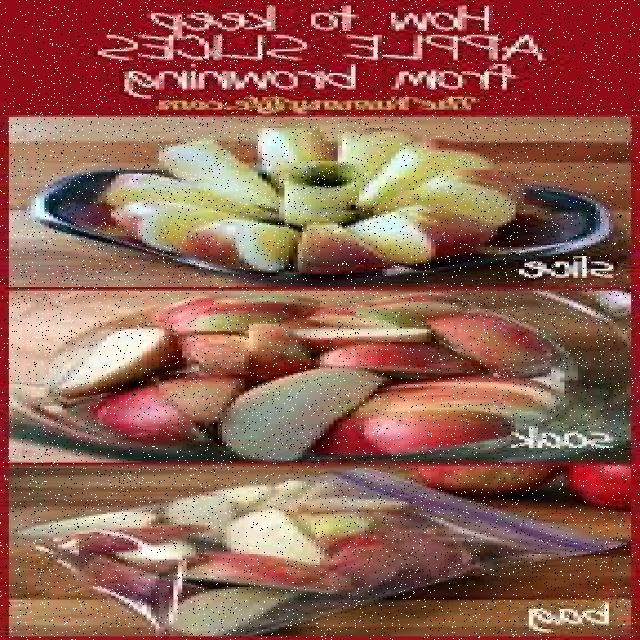Apple: (216, 366, 385, 460), (40, 326, 177, 396), (415, 311, 567, 369), (383, 174, 521, 234), (361, 142, 484, 208), (157, 140, 264, 210), (362, 204, 482, 266), (90, 173, 250, 218), (111, 202, 246, 254), (165, 580, 294, 634), (360, 409, 507, 455), (168, 556, 372, 588), (92, 383, 200, 442), (53, 519, 200, 561), (186, 219, 292, 275), (271, 160, 363, 220), (349, 393, 550, 420), (385, 373, 560, 404), (220, 510, 328, 560), (161, 293, 305, 330), (294, 222, 379, 282), (39, 506, 168, 544), (329, 125, 413, 179), (243, 126, 326, 174), (165, 492, 241, 544), (321, 345, 472, 370), (241, 314, 305, 368), (290, 325, 440, 344), (271, 497, 417, 515), (353, 293, 457, 317), (255, 477, 317, 514), (282, 310, 386, 326)
